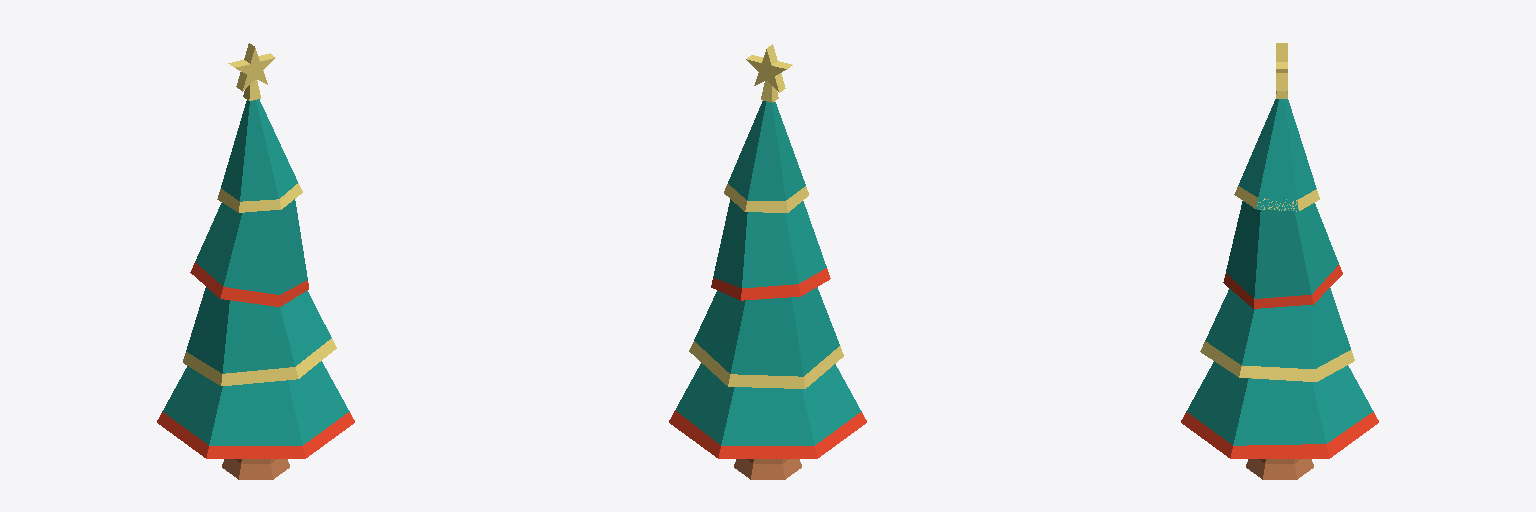
File: treeDecorated.obj
3 views of the same model, side by side, from view 1: azimuth 30°, elevation 25°; view 2: azimuth 150°, elevation 25°; view 3: azimuth 270°, elevation 25° (orthographic).
Visible parts, largest first — view 1: treeDecorated, star; view 2: treeDecorated, star; view 3: treeDecorated, star.
Boxes of the visible parts, <box> form: treeDecorated: <box>157,99,354,479</box>; star: <box>228,43,275,100</box>; treeDecorated: <box>669,101,866,479</box>; star: <box>746,44,792,102</box>; treeDecorated: <box>1181,99,1378,479</box>; star: <box>1276,43,1287,98</box>.
Size of the model in its own units: 0.651 by 1.76 by 0.7517.